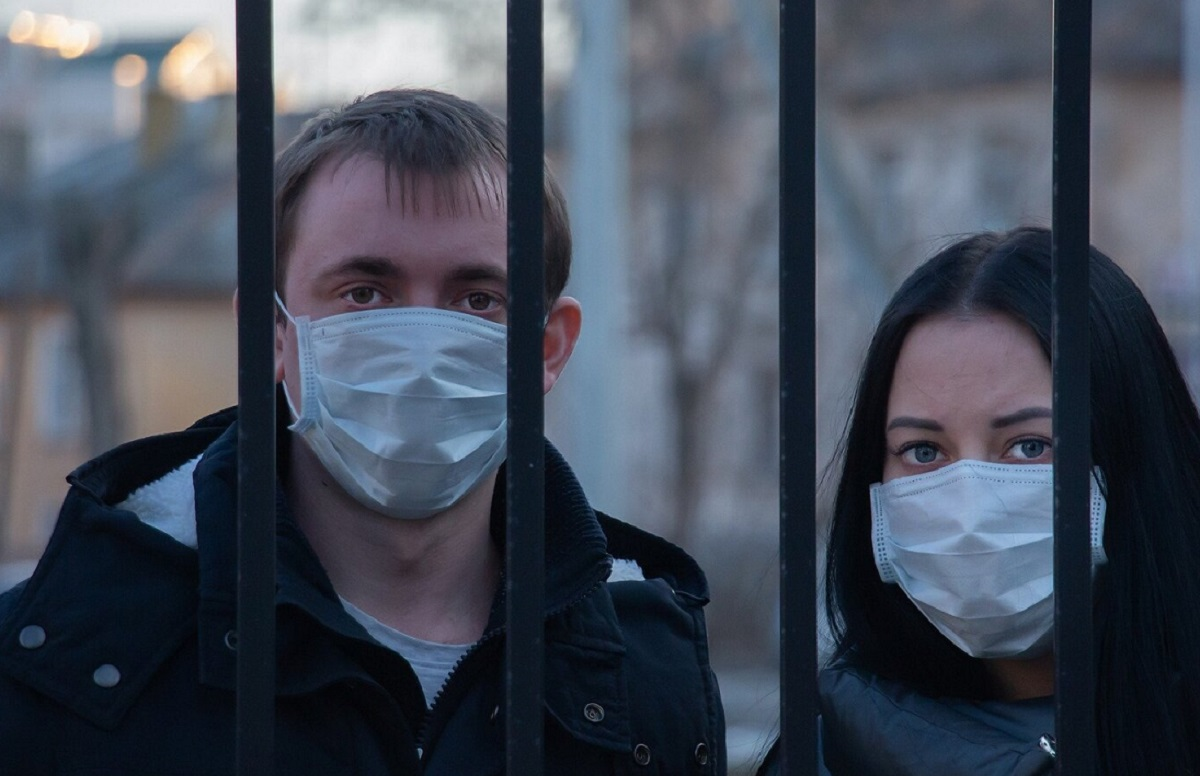with_mask: (243, 100, 609, 532), (848, 294, 1155, 646)
